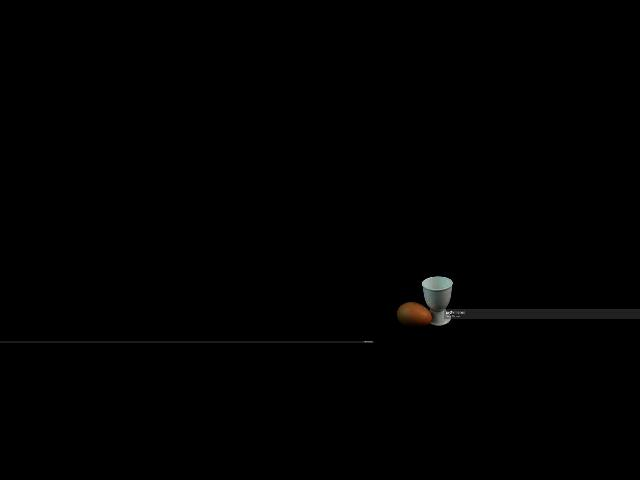egg: (397, 302, 432, 327)
